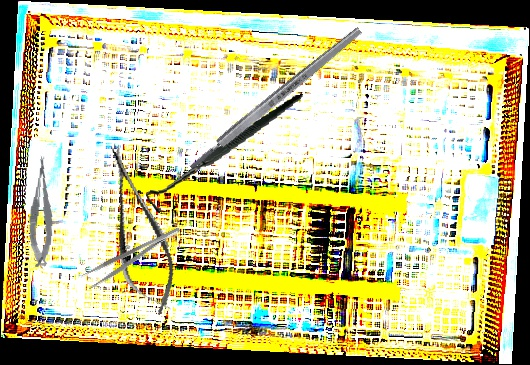Dressing Forceps: (79, 224, 187, 291)
Hook Surgical: (136, 94, 316, 214)
Micro Scissor: (92, 139, 186, 321), (24, 154, 61, 269)
Scalpel Handle: (186, 25, 365, 173)
